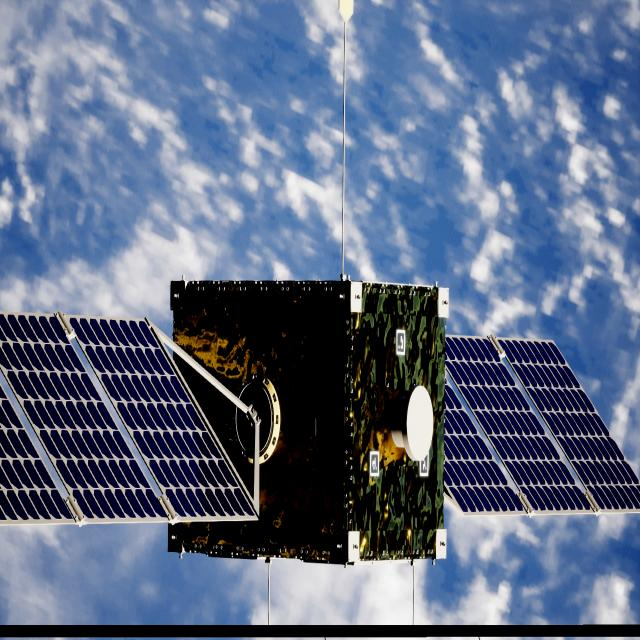medium_debris: (0, 280, 640, 568)
